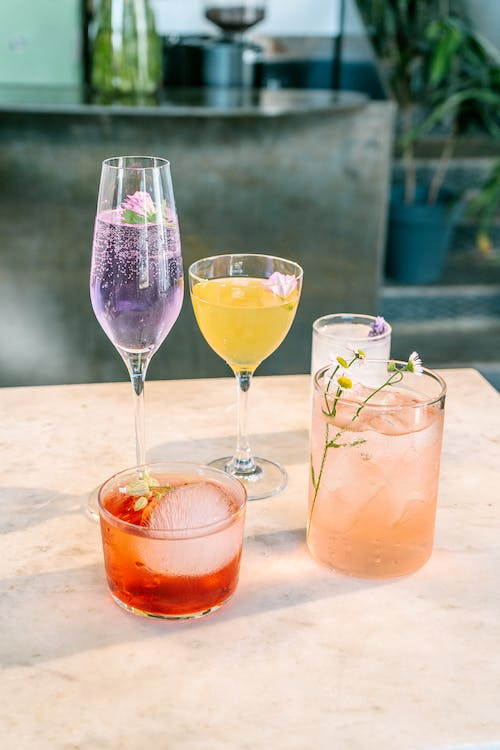alcohol: (86, 153, 185, 522), (305, 360, 447, 581), (187, 254, 305, 502), (97, 460, 248, 623), (308, 311, 393, 456)
